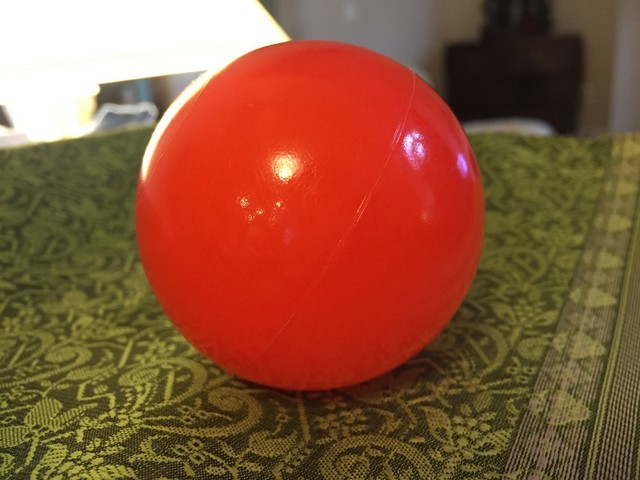Ball: (131, 41, 483, 388)
